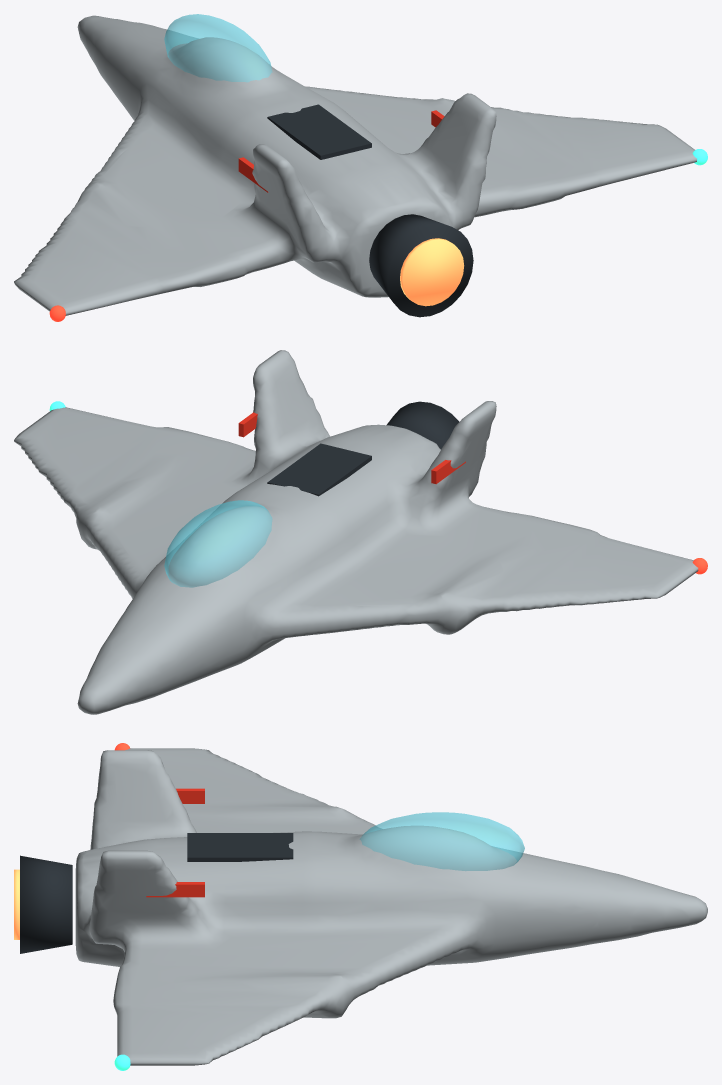
Rendered from interceptor.glb.
3 views of the same model, one above another, from view 1: azimuth 30°, elevation 25°; view 2: azimuth 150°, elevation 25°; view 3: azimuth 270°, elevation 25° (orthographic).
Visible parts, largest first — view 1: Hull, Canopy, Nozzle, Exhaust, DorsalPlate; view 2: Hull, Canopy, DorsalPlate, Nozzle; view 3: Hull, Canopy, Nozzle, DorsalPlate, FinStripe1.
Boxes of the visible parts, x1,y1,x2,y2 form: Hull: [14, 15, 696, 315]; Canopy: [164, 14, 272, 82]; Nozzle: [369, 214, 473, 317]; Exhaust: [400, 238, 464, 306]; DorsalPlate: [267, 104, 371, 159]; Hull: [14, 350, 698, 714]; Canopy: [164, 500, 272, 587]; DorsalPlate: [267, 443, 371, 496]; Nozzle: [386, 401, 459, 449]; Hull: [75, 748, 707, 1065]; Canopy: [360, 812, 524, 870]; Nozzle: [20, 855, 72, 953]; DorsalPlate: [187, 833, 293, 861]; FinStripe1: [146, 882, 204, 897].
Size of the model in its own units: 6.41 by 1.48 by 5.9.
